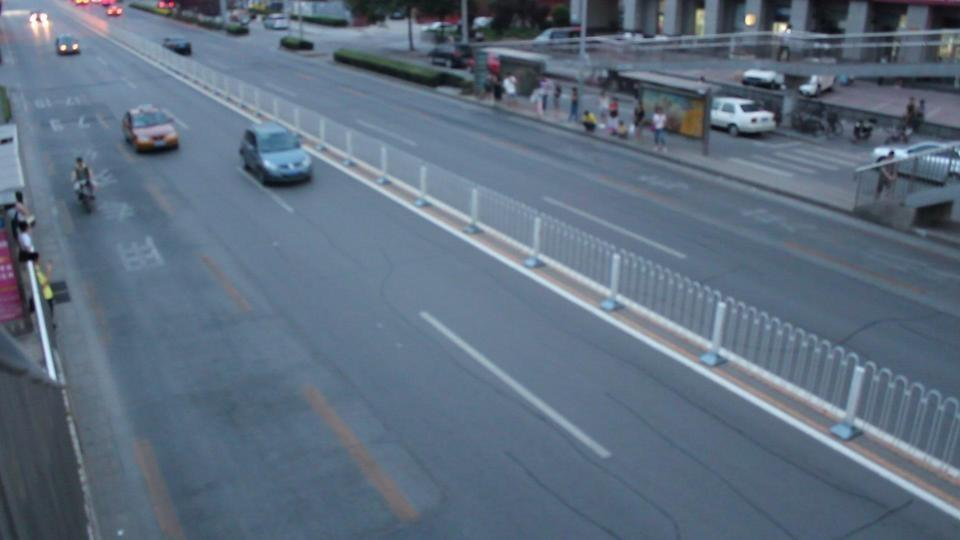car: (238, 123, 313, 185), (870, 143, 960, 185), (121, 104, 180, 154), (708, 97, 777, 137), (529, 26, 584, 50), (741, 68, 784, 91), (798, 74, 835, 97), (161, 37, 192, 56), (55, 35, 81, 56), (263, 15, 291, 31)
